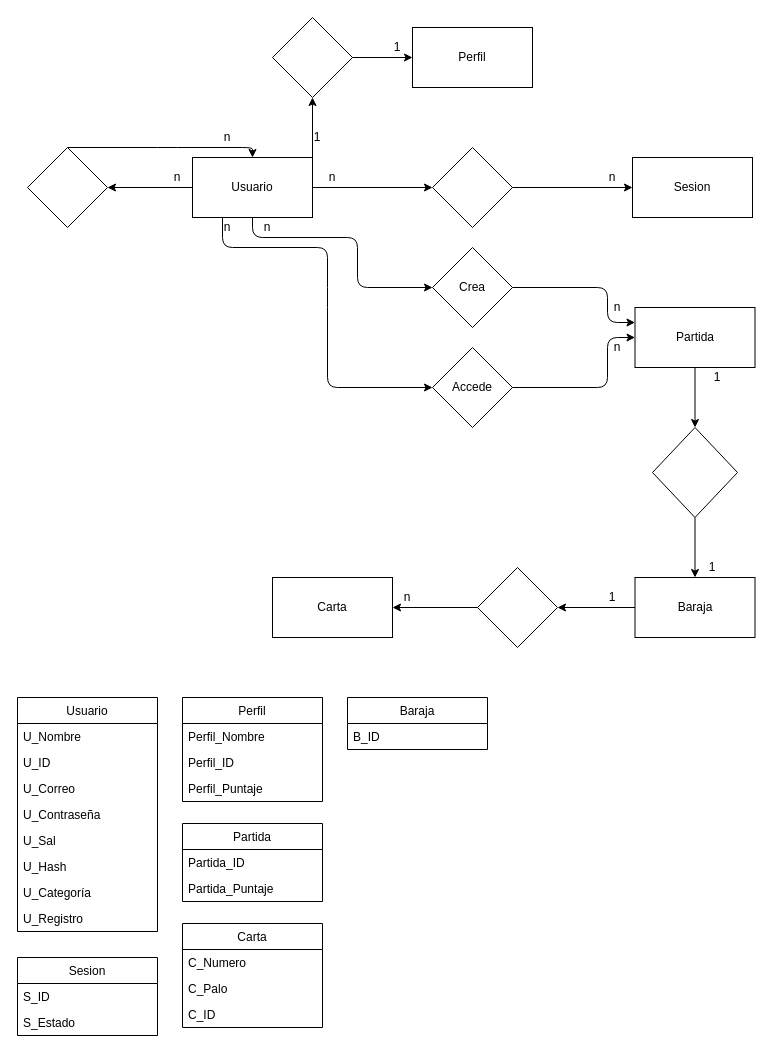
The diagram is 773 pixels wide and 1056 high, and some of its shapes have lost their labels. Each missing label, with the centre of its shape:
Baraja_carta: (517,607)
Chatea: (67,187)
Inicia: (472,187)
Partida_Baraja: (695,472)
Tiene: (312,57)
